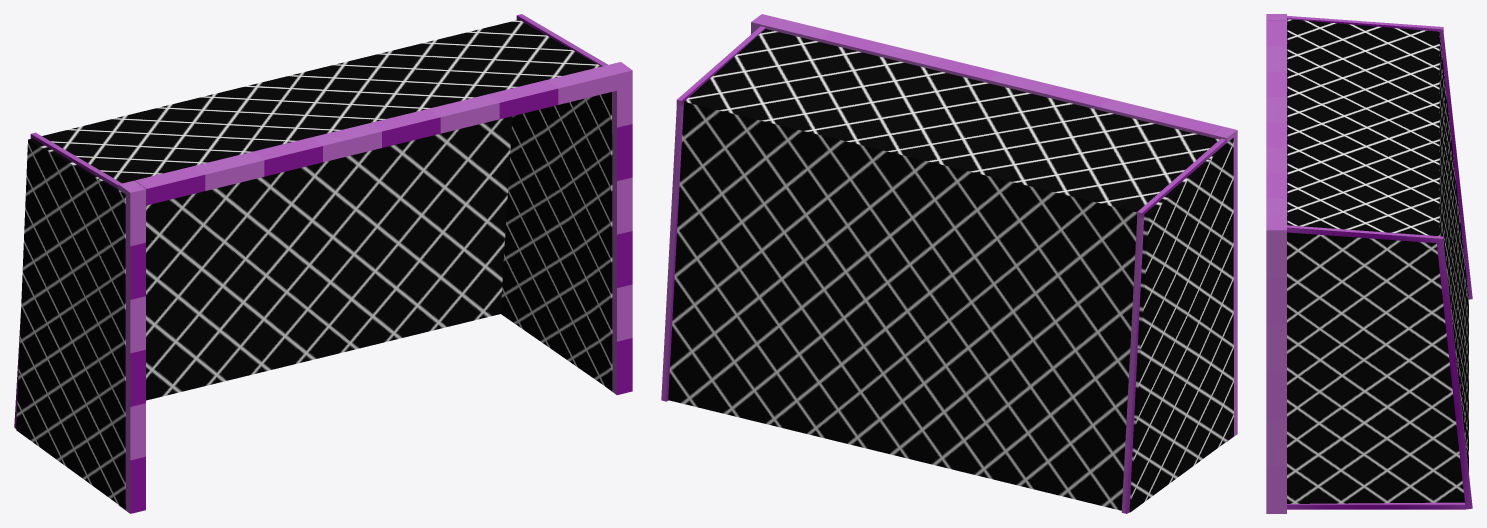
Rendered from court.fbx.
3 renders of one model, left to right at view 1: azimuth 30°, elevation 25°; view 2: azimuth 150°, elevation 25°; view 3: azimuth 270°, elevation 25°, orthographic. The views are drawn at different scales.
Visible parts, largest first — view 1: model_1.001; view 2: model_1.001; view 3: model_1.001.
Part boxes in pixels (box(x1,y1,x2,y2)): model_1.001: box(14, 14, 632, 513); model_1.001: box(661, 14, 1237, 513); model_1.001: box(1266, 14, 1472, 513).
Size of the model in its own units: 100 by 60.69 by 39.99.
